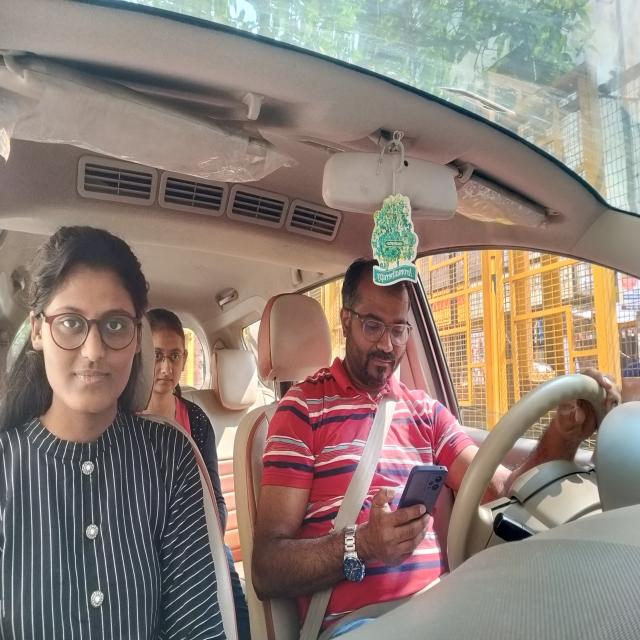mobile: (400, 447, 454, 546)
person: (25, 216, 150, 436), (336, 254, 421, 408), (142, 294, 196, 420)
